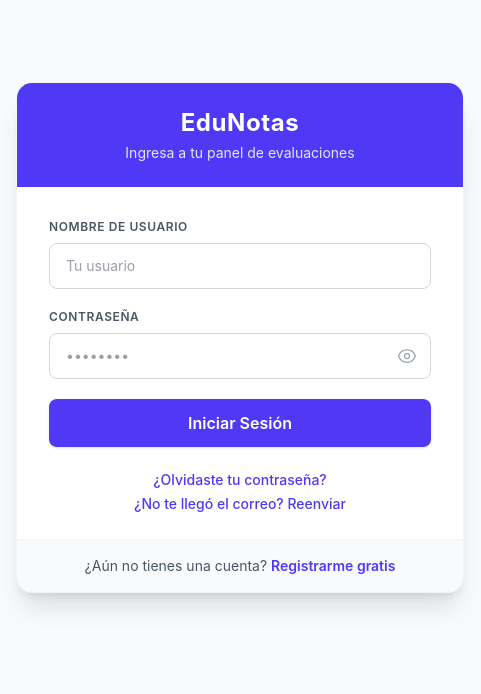
Scenario: LoginPage › reenvía el correo de activación desde el login
Click the button "¿No te llegó el correo? Reenviar".
click(240, 504)  # box [134,494,346,514]
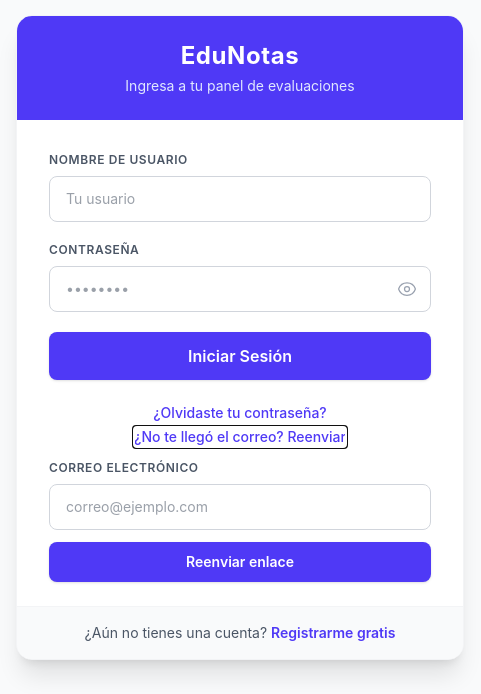
Type "nuevo@example.com" into the field labelled "Correo electrónico".
click(240, 506); type("nuevo@example.com")  # box [49,484,431,530]
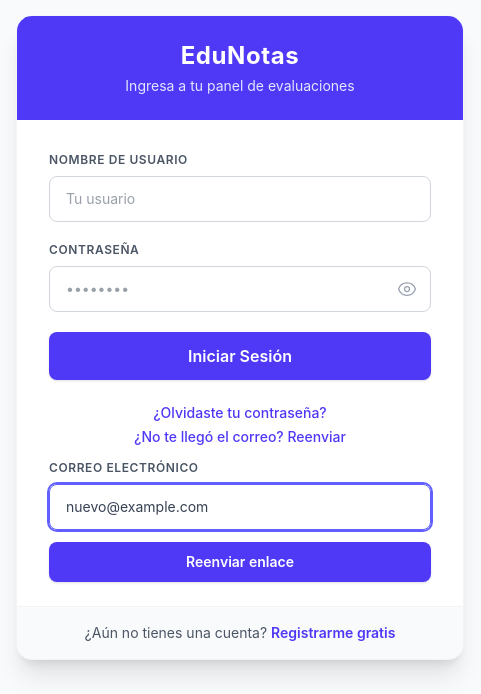
Click the button "Reenviar enlace".
click(240, 562)  # box [49,542,431,582]
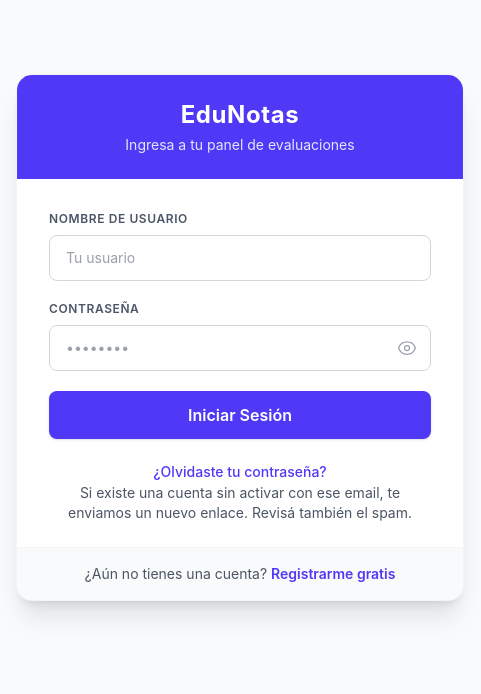
Check: the text "Si existe una cuenta sin activar" is shown, box [68,484,412,520]
